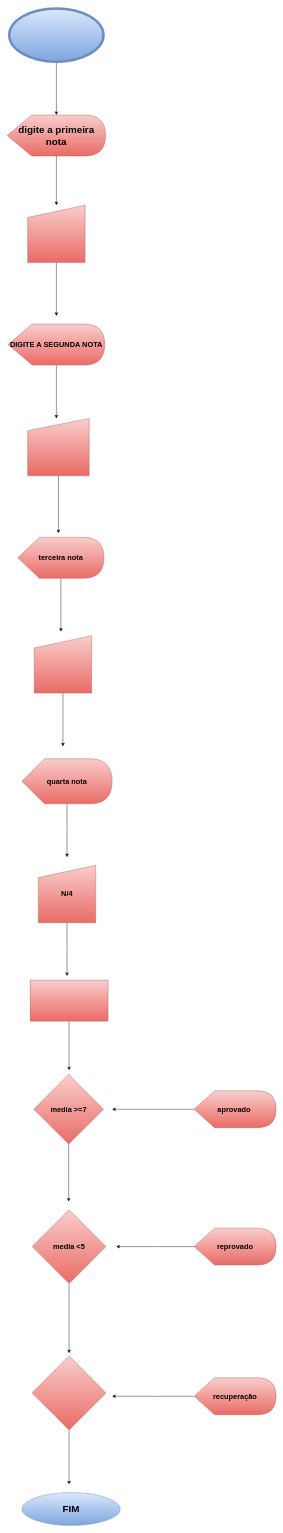
Some shapes in this 283 by 1533 pixel diagram are drawn without their labels. Here are the shapes that lost their labels. From the top down, the centre of each, then its label:
At pixel 56 35: "inicio".
At pixel 56 234: "N/1".
At pixel 58 447: "N/2".
At pixel 63 664: "N/3".
At pixel 69 1000: "media= (n/1+n/2+n/3+n/4)/4".
At pixel 69 1393: "media 5>= <7".
